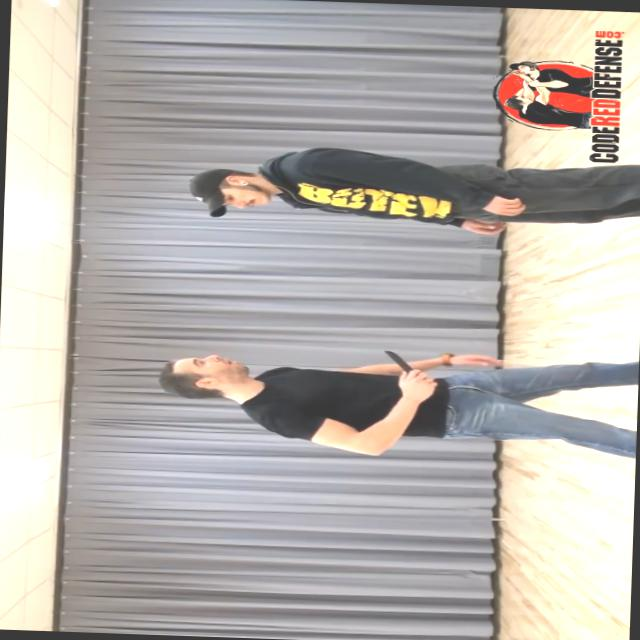knife: (374, 347, 438, 389)
